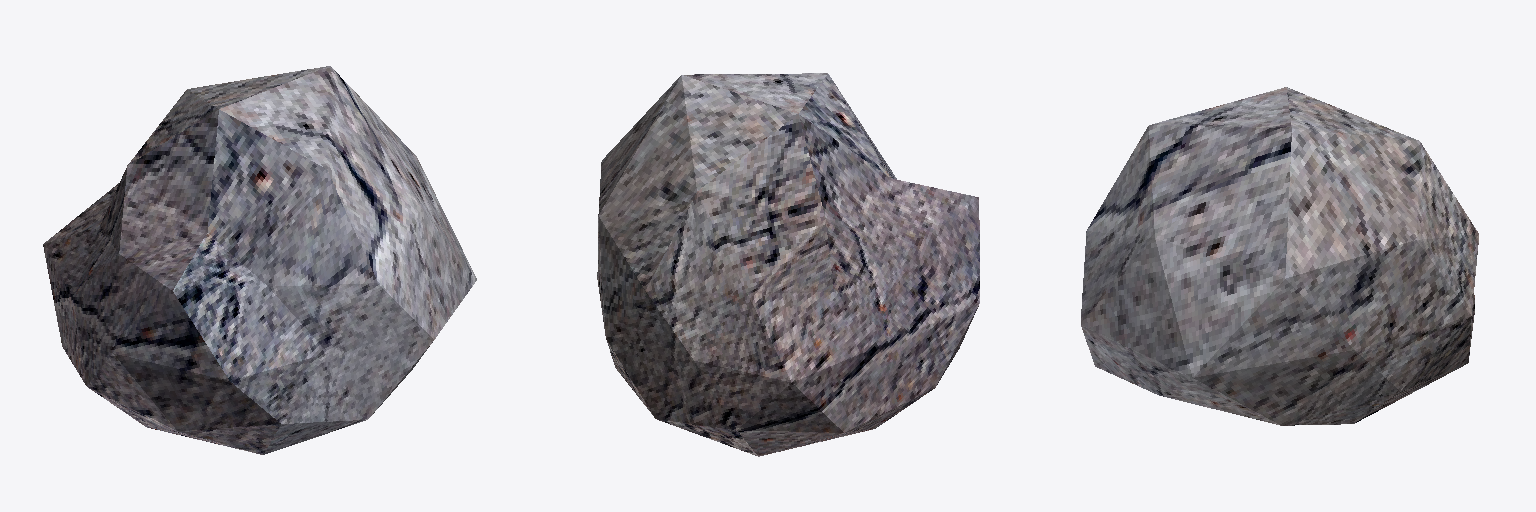
The picture shows the model from 3 angles: view 1: azimuth 30°, elevation 25°; view 2: azimuth 150°, elevation 25°; view 3: azimuth 270°, elevation 25°; orthographic projection.
Visible parts, largest first — view 1: Icosphere; view 2: Icosphere; view 3: Icosphere.
Part boxes in pixels (left/top/right/bottom): Icosphere: left=43, top=66, right=476, bottom=454; Icosphere: left=597, top=73, right=979, bottom=456; Icosphere: left=1081, top=87, right=1478, bottom=425.
Size of the model in its own units: 2.72 by 2.43 by 2.64.
1 materials, 1 textured.